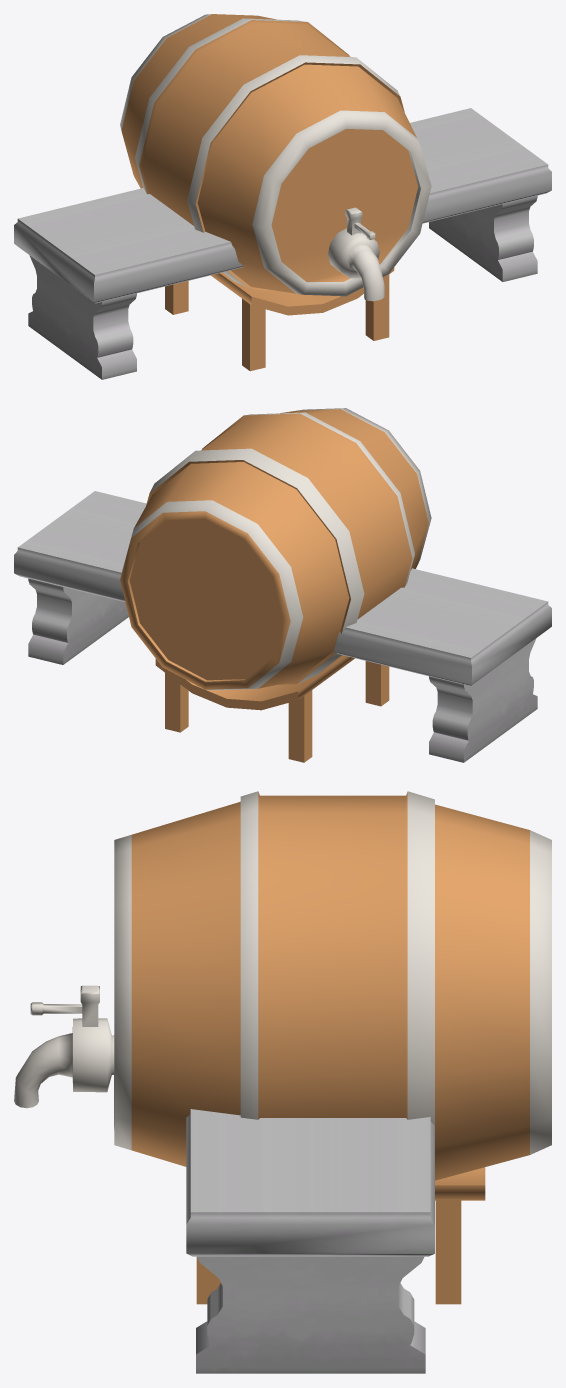
File: MarbleBenchHand.fbx
3 views of the same model, one above another, from view 1: azimuth 30°, elevation 25°; view 2: azimuth 150°, elevation 25°; view 3: azimuth 270°, elevation 25° (orthographic). The views are drawn at different scales.
Visible parts, largest first — view 1: Keg (1), Bin (1); view 2: Keg (1), Bin (1); view 3: Keg (1), Bin (1).
Boxes of the visible parts, x1,y1,x2,y2 form: Keg (1): [120, 14, 431, 371]; Bin (1): [14, 108, 551, 379]; Keg (1): [120, 408, 431, 762]; Bin (1): [14, 491, 551, 762]; Keg (1): [14, 791, 551, 1304]; Bin (1): [186, 1109, 434, 1373].
Bounding box in the file's own units: 1.2 × 0.7134 × 0.7864.
